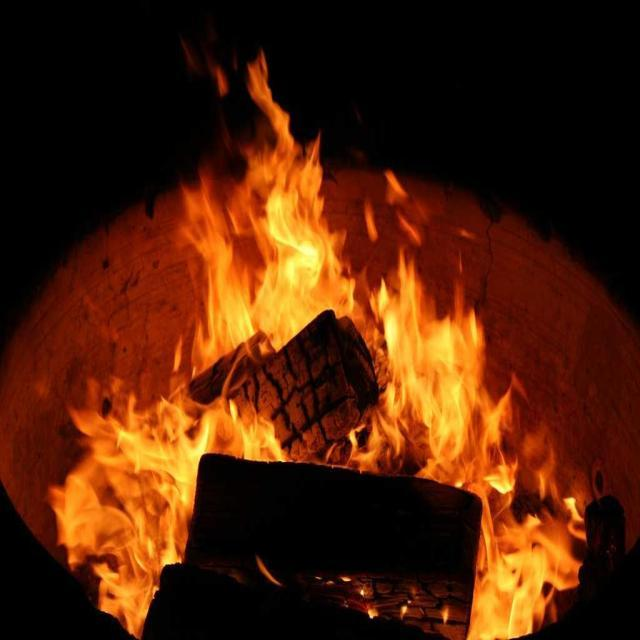Fire: (76, 417, 180, 547), (389, 318, 477, 441), (248, 166, 322, 310), (477, 534, 550, 611)
